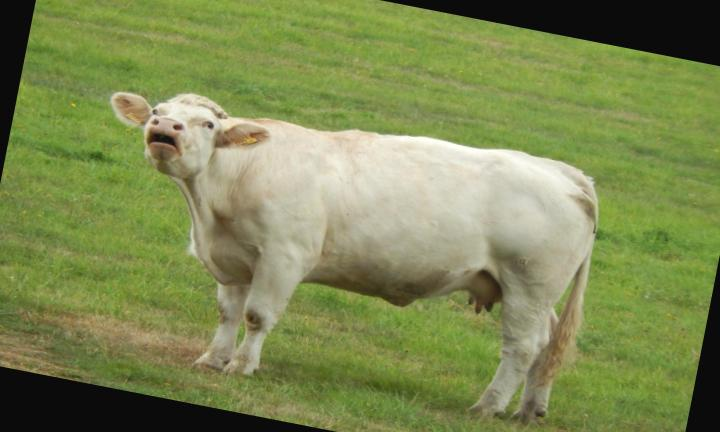Charolais: (110, 92, 597, 421)
